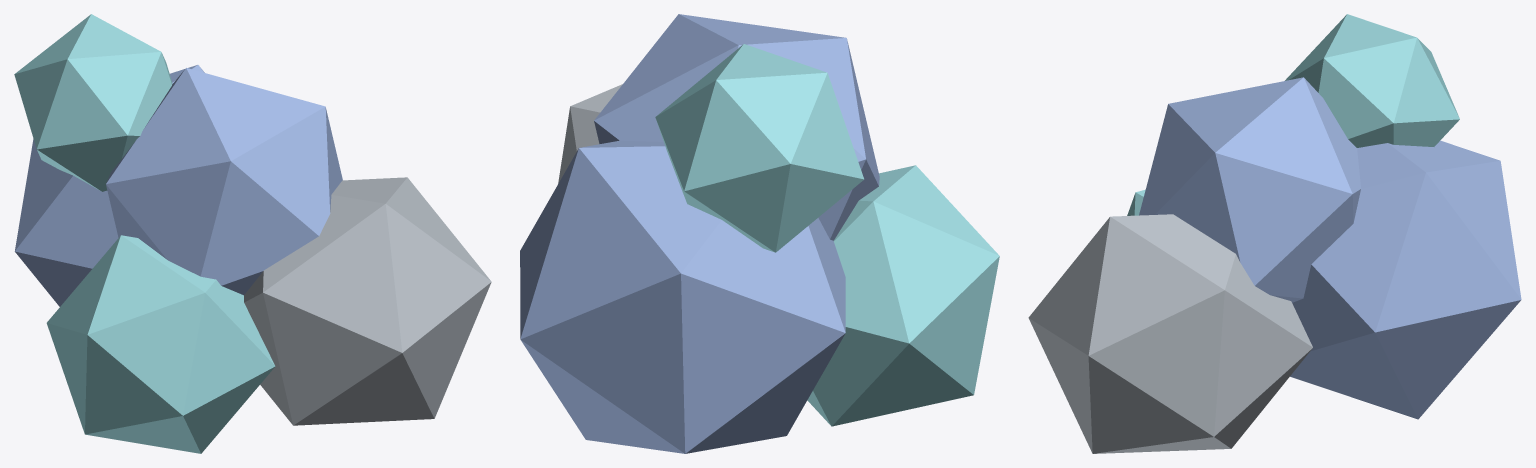
Rendered from cloud1.fbx.
3 views of the same model, side by side, from view 1: azimuth 30°, elevation 25°; view 2: azimuth 150°, elevation 25°; view 3: azimuth 270°, elevation 25° (orthographic). The views are drawn at different scales.
Parts seen in each view (by area): view 1: Icosphere.012, Icosphere.010, Icosphere.014, Icosphere.011, Icosphere.013; view 2: Icosphere.013, Icosphere.014, Icosphere.011, Icosphere.010, Icosphere.012; view 3: Icosphere.012, Icosphere.013, Icosphere.010, Icosphere.011.
Boxes of the visible parts, box(x1,y1,x2,y2) form: Icosphere.012: box(244, 177, 491, 425); Icosphere.010: box(106, 68, 342, 295); Icosphere.014: box(46, 235, 275, 453); Icosphere.011: box(14, 14, 172, 191); Icosphere.013: box(14, 65, 204, 306); Icosphere.013: box(520, 140, 845, 453); Icosphere.014: box(807, 165, 999, 426); Icosphere.011: box(655, 44, 864, 252); Icosphere.010: box(594, 14, 879, 240); Icosphere.012: box(558, 84, 622, 183); Icosphere.012: box(1028, 214, 1312, 453); Icosphere.013: box(1290, 140, 1521, 419); Icosphere.010: box(1139, 77, 1360, 302); Icosphere.011: box(1285, 14, 1459, 147).
Bounding box in the file's own units: 355 × 323 × 416.
